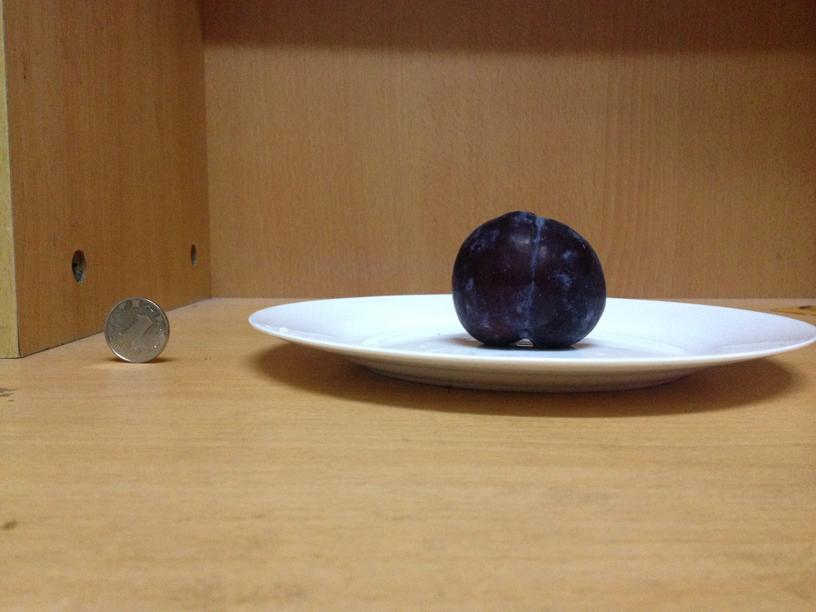coin: (101, 292, 167, 364)
plum: (447, 211, 605, 348)
